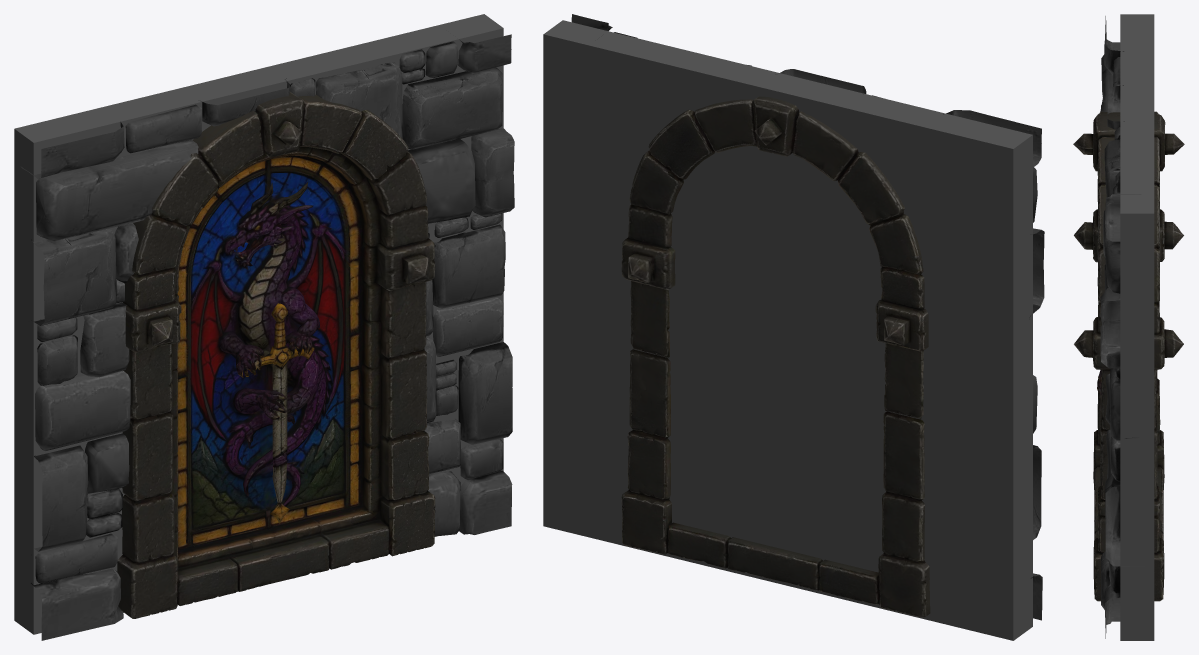
Rendered from Wall_StainedGlass_Dragon.fbx.
3 views of the same model, side by side, from view 1: azimuth 30°, elevation 25°; view 2: azimuth 150°, elevation 25°; view 3: azimuth 270°, elevation 25° (orthographic). The views are drawn at different scales.
Visible parts, largest first — view 1: Wall_StainedGlass_Dragon; view 2: Wall_StainedGlass_Dragon; view 3: Wall_StainedGlass_Dragon.
Boxes of the visible parts, left/top/right/bottom form: Wall_StainedGlass_Dragon: left=14, top=14, right=514, bottom=640; Wall_StainedGlass_Dragon: left=543, top=14, right=1044, bottom=640; Wall_StainedGlass_Dragon: left=1073, top=14, right=1184, bottom=640.
Bounding box in the file's own units: 302 × 300 × 71.14.
4 materials, 3 textured.
